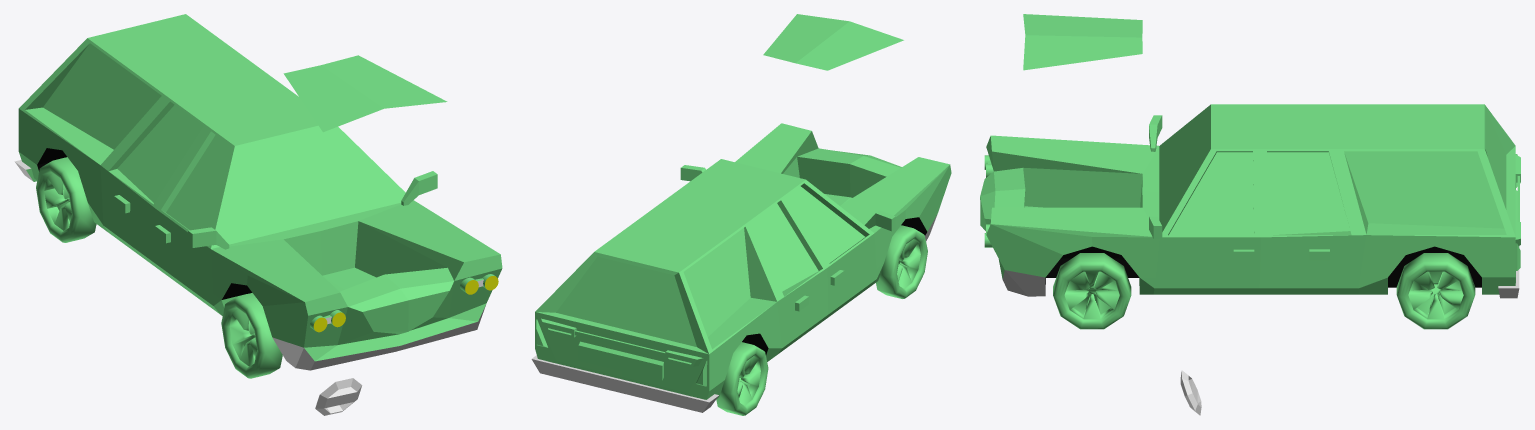
The model's file is daddycar_2000.fbx.
The picture shows the model from 3 angles, left to right: view 1: azimuth 30°, elevation 25°; view 2: azimuth 150°, elevation 25°; view 3: azimuth 270°, elevation 25°; orthographic projection. The views are drawn at different scales.
Parts seen in each view (by area): view 1: car root, glass_front, mask_front, doors_rear, doors_front, glass_passager, glass_driver, wheels_front, wheels_rear, mirrors, Torus, color rear wheels (+1 smaller); view 2: car root, trunk, glass_back, mask_front, doors_front, doors_rear, glass_passager, glass_driver, wheels_front, wheels_rear, color wheels front, color rear wheels (+1 smaller); view 3: car root, doors_front, doors_rear, glass_passager, mask_front, glass_driver, wheels_rear, wheels_front, glass_front, color rear wheels, color wheels front, trunk (+3 smaller).
Boxes of the visible parts, bbox=[...] form: car root: bbox=[14, 14, 502, 370]; glass_front: bbox=[221, 129, 400, 240]; mask_front: bbox=[283, 55, 447, 132]; doors_rear: bbox=[100, 97, 207, 264]; doors_front: bbox=[155, 127, 234, 305]; glass_passager: bbox=[117, 105, 203, 202]; glass_driver: bbox=[166, 135, 230, 230]; wheels_front: bbox=[221, 293, 282, 378]; wheels_rear: bbox=[36, 157, 96, 242]; mirrors: bbox=[188, 171, 437, 249]; Torus: bbox=[315, 378, 362, 415]; color rear wheels: bbox=[44, 173, 71, 230]; car root: bbox=[531, 123, 951, 412]; trunk: bbox=[535, 312, 708, 392]; glass_back: bbox=[556, 256, 696, 346]; mask_front: bbox=[763, 14, 903, 70]; doors_front: bbox=[783, 180, 876, 314]; doors_rear: bbox=[748, 197, 827, 347]; glass_passager: bbox=[752, 203, 818, 291]; glass_driver: bbox=[787, 186, 864, 263]; wheels_front: bbox=[876, 225, 927, 298]; wheels_rear: bbox=[716, 342, 768, 415]; color wheels front: bbox=[897, 239, 920, 288]; color rear wheels: bbox=[737, 356, 760, 405]; car root: bbox=[980, 104, 1520, 298]; doors_front: bbox=[1154, 149, 1261, 288]; doors_rear: bbox=[1259, 149, 1366, 288]; glass_passager: bbox=[1267, 152, 1350, 235]; mask_front: bbox=[1023, 14, 1142, 70]; glass_driver: bbox=[1169, 152, 1254, 235]; wheels_rear: bbox=[1396, 253, 1475, 329]; wheels_front: bbox=[1053, 253, 1131, 329]; glass_front: bbox=[1162, 110, 1208, 228]; color rear wheels: bbox=[1408, 271, 1463, 319]; color wheels front: bbox=[1064, 271, 1119, 319]; trunk: bbox=[1506, 146, 1520, 246].
Bounding box in the file's own units: 1321 × 1984 × 2721.
